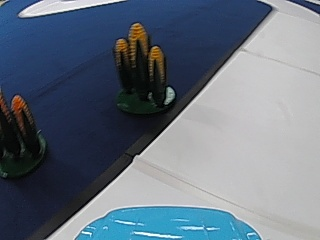corn: (111, 21, 177, 117), (1, 91, 46, 177)
